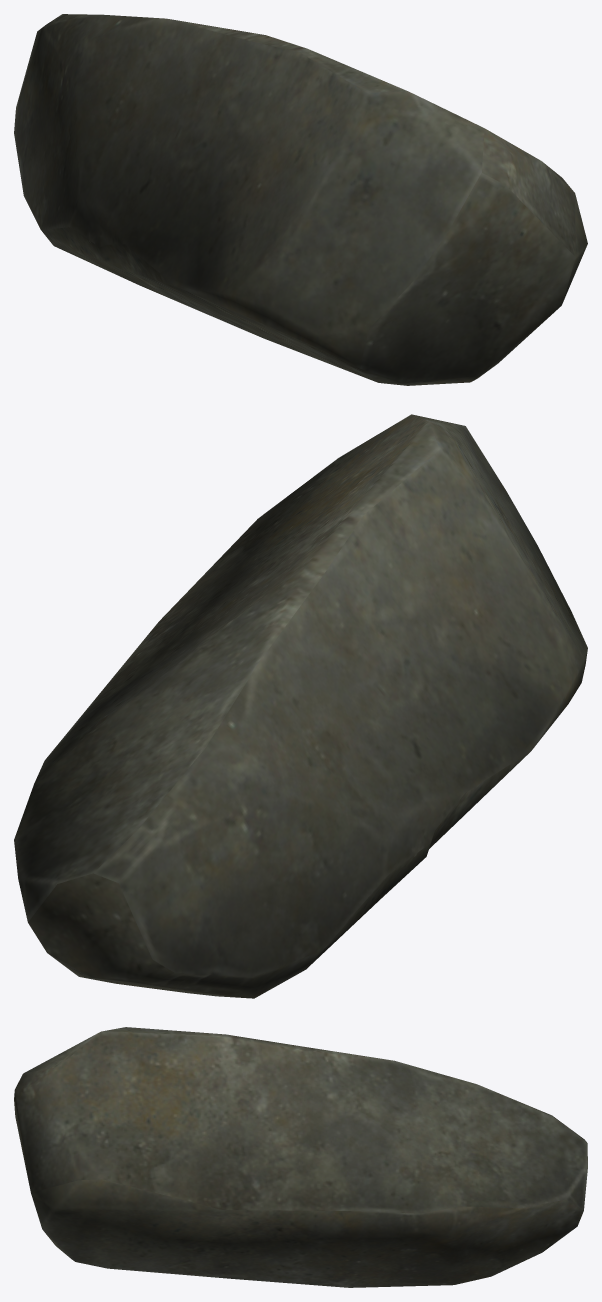
The model's file is rocks3.fbx.
The picture shows the model from 3 angles, top to bottom: view 1: azimuth 30°, elevation 25°; view 2: azimuth 150°, elevation 25°; view 3: azimuth 270°, elevation 25°; orthographic projection. The views are drawn at different scales.
Visible parts, largest first — view 1: rock03; view 2: rock03; view 3: rock03.
Boxes of the visible parts, left/top/right/bottom form: rock03: left=14, top=14, right=587, bottom=385; rock03: left=14, top=414, right=587, bottom=998; rock03: left=14, top=1027, right=587, bottom=1287.
Size of the model in its own units: 229 by 225 by 471.
Materials: 1 (1 with a texture image).
